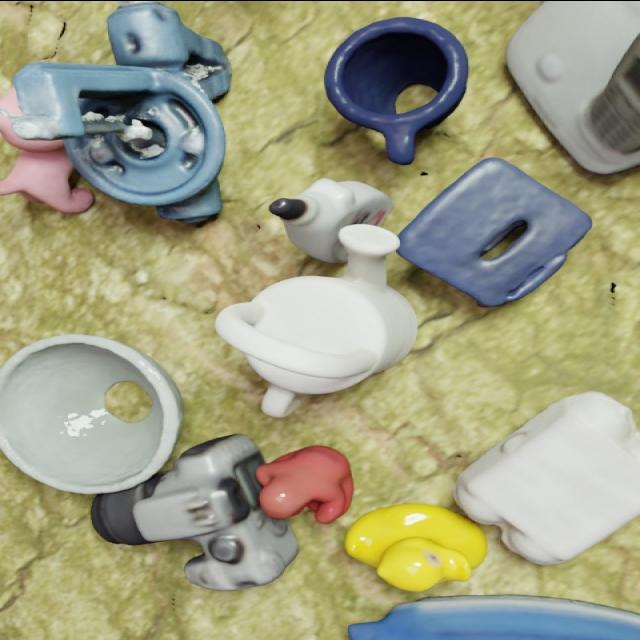Other Objects: (216, 223, 417, 414), (91, 433, 297, 589), (455, 390, 639, 563), (397, 156, 591, 305), (0, 333, 181, 492), (507, 0, 639, 172), (325, 16, 467, 163), (348, 595, 639, 639), (345, 502, 485, 590), (269, 177, 391, 261), (0, 114, 93, 211), (256, 444, 352, 522), (0, 87, 19, 114)
